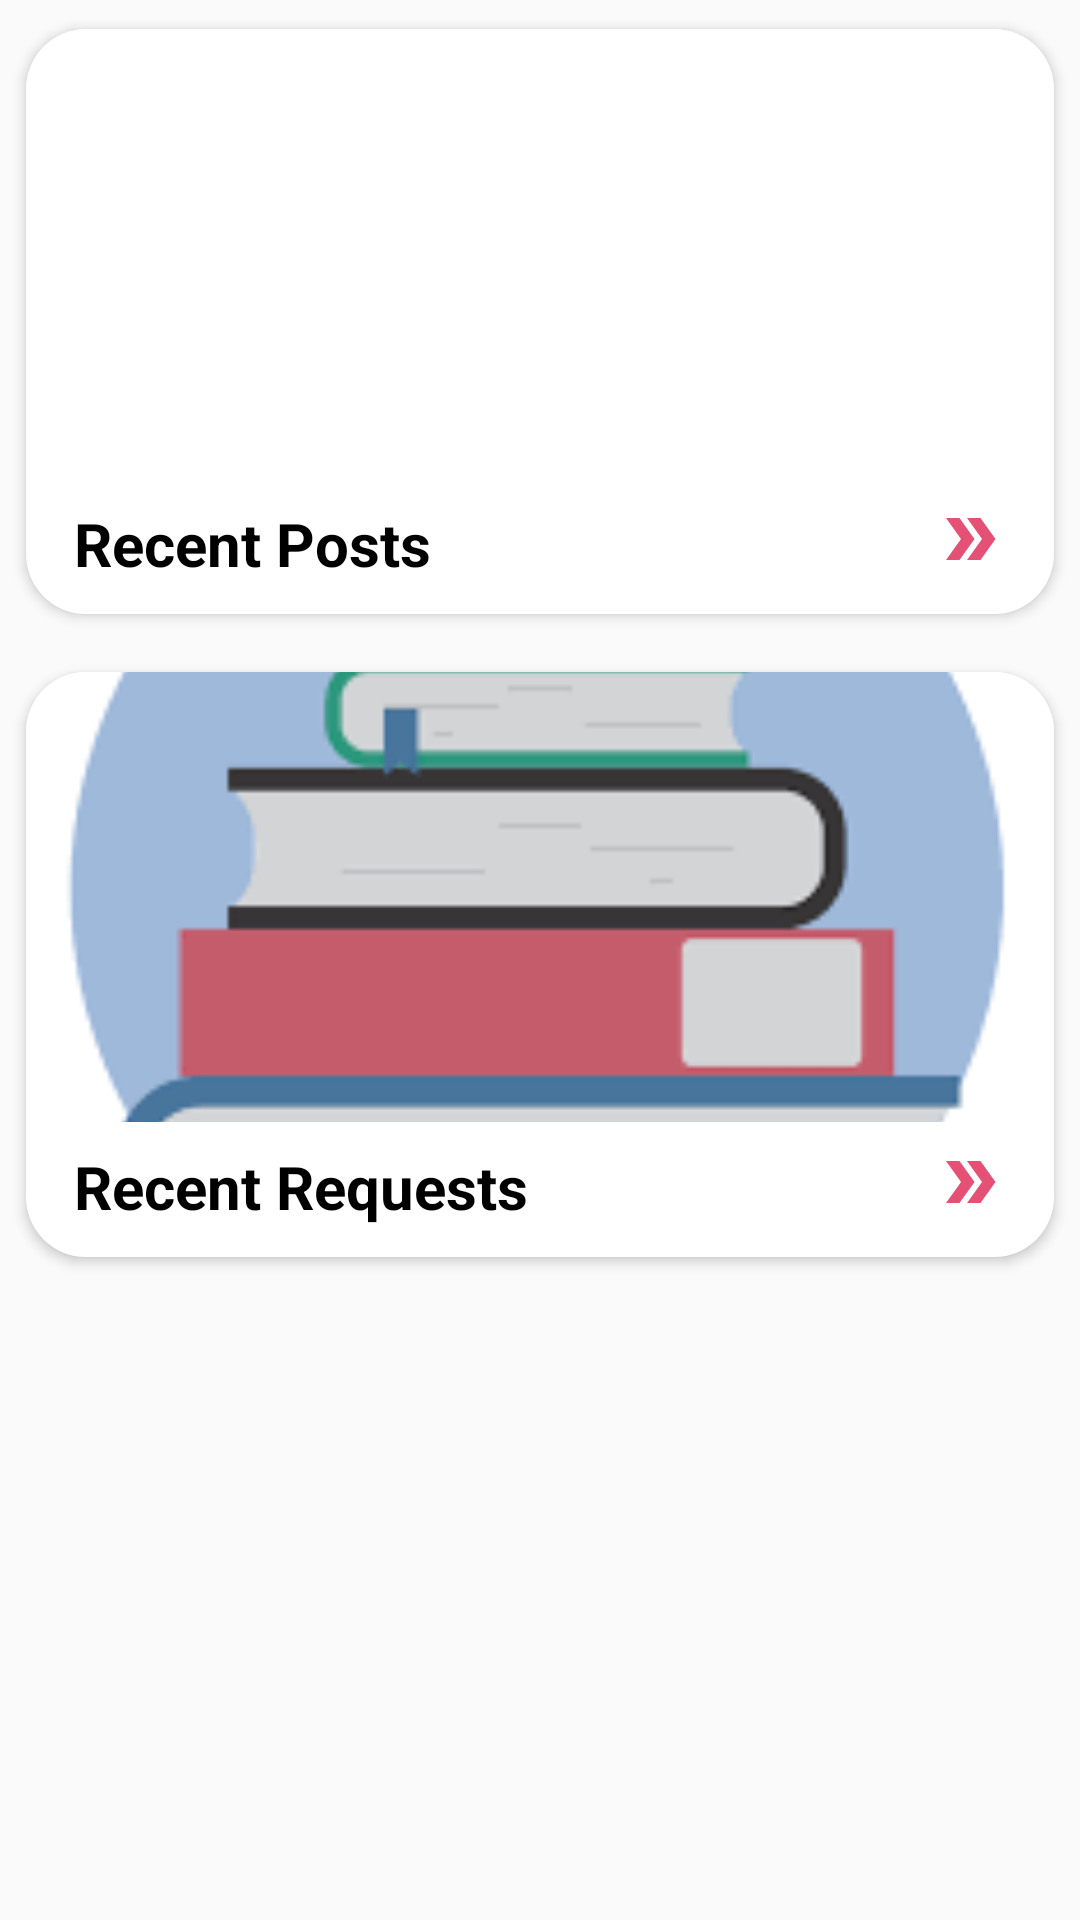

Where icons sit on this 1080x1920 app screen, as (x1, y1, x2, y2):
double arrow: (946, 518, 996, 560), (946, 1161, 996, 1203)
